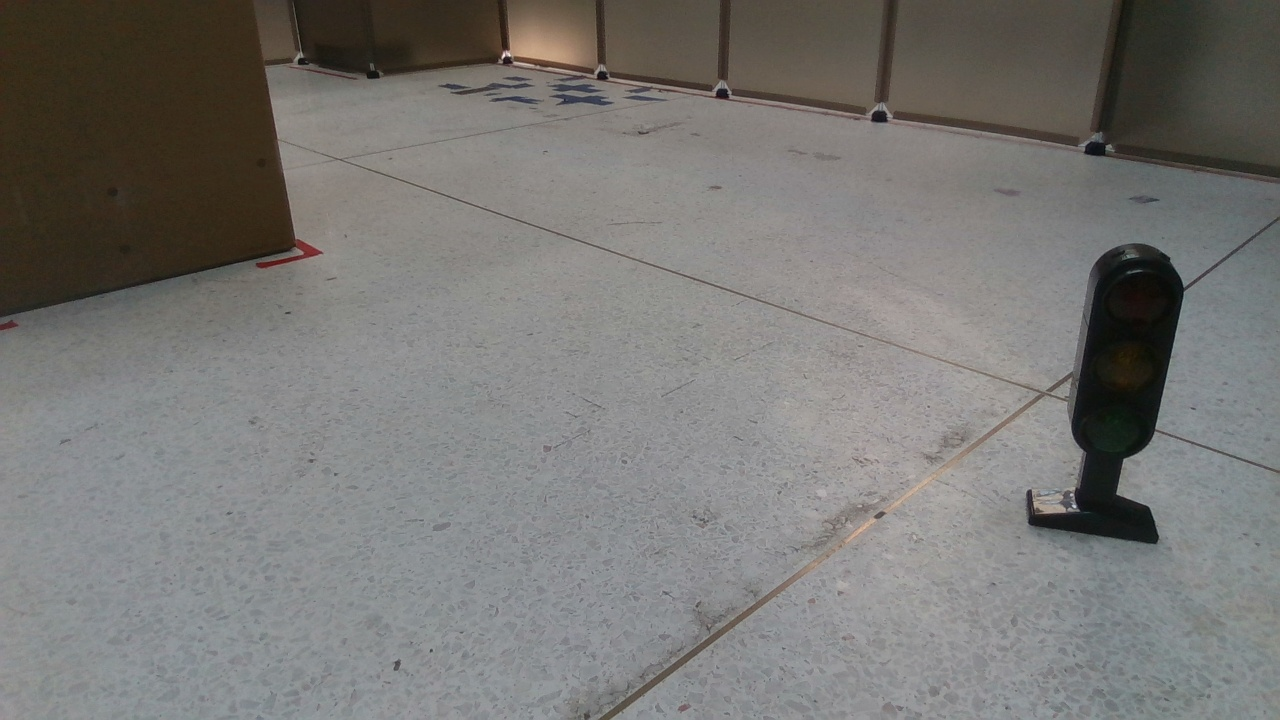Dim traffic light: (1030, 237, 1187, 547)
